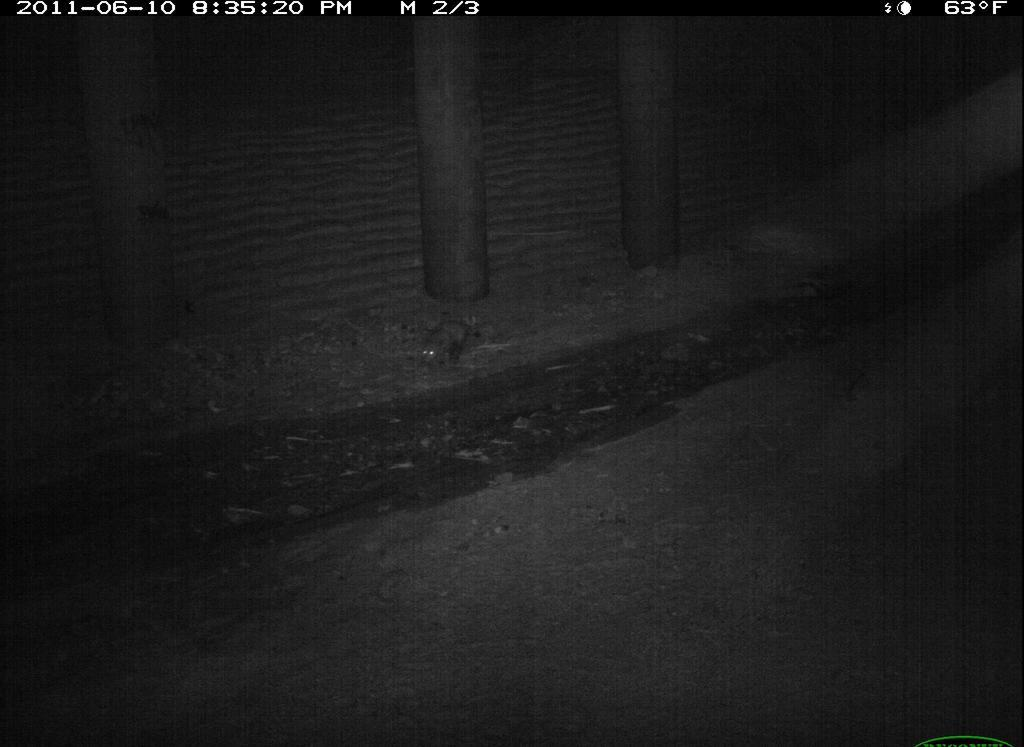opossum: (832, 629, 977, 744)
